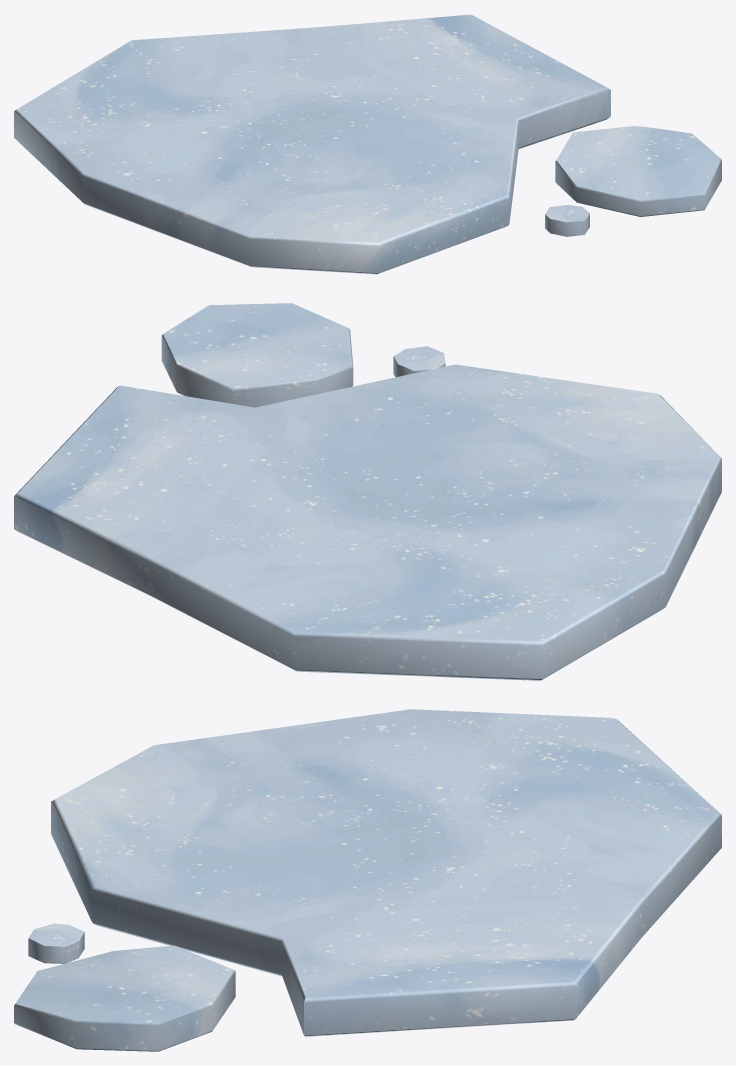
File: P_ENV_ice_01.gltf
3 renders of one model, top to bottom at view 1: azimuth 30°, elevation 25°; view 2: azimuth 150°, elevation 25°; view 3: azimuth 270°, elevation 25°, orthographic. The views are drawn at different scales.
Parts seen in each view (by area): view 1: P_ENV_ice_01(Clone); view 2: P_ENV_ice_01(Clone); view 3: P_ENV_ice_01(Clone).
Boxes of the visible parts, bbox=[...] form: P_ENV_ice_01(Clone): bbox=[14, 14, 721, 274]; P_ENV_ice_01(Clone): bbox=[14, 303, 721, 680]; P_ENV_ice_01(Clone): bbox=[14, 709, 721, 1051].
Bounding box in the file's own units: 2.89 × 0.1775 × 2.83.
1 material, 1 textured.
